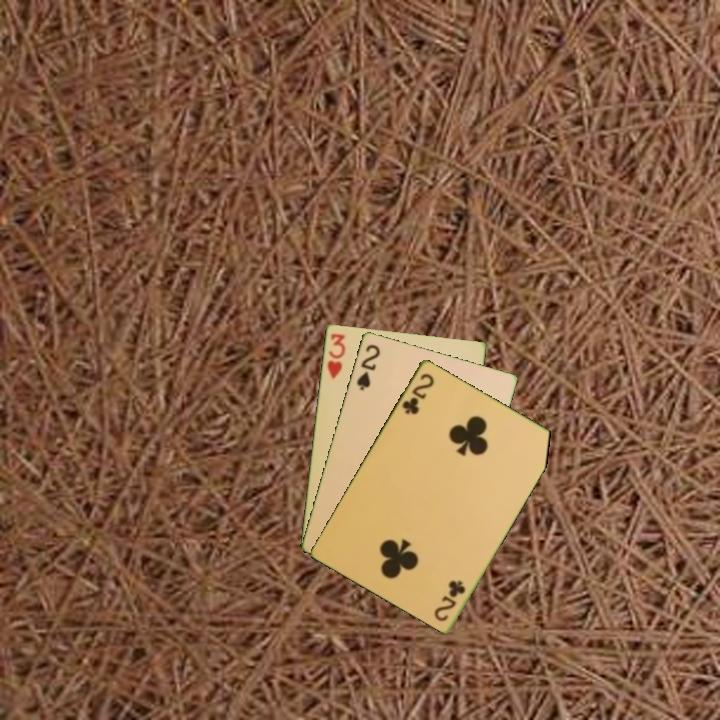2c: (398, 369, 437, 417), (431, 576, 468, 624)
2s: (353, 340, 383, 393)
3h: (323, 330, 348, 382)
